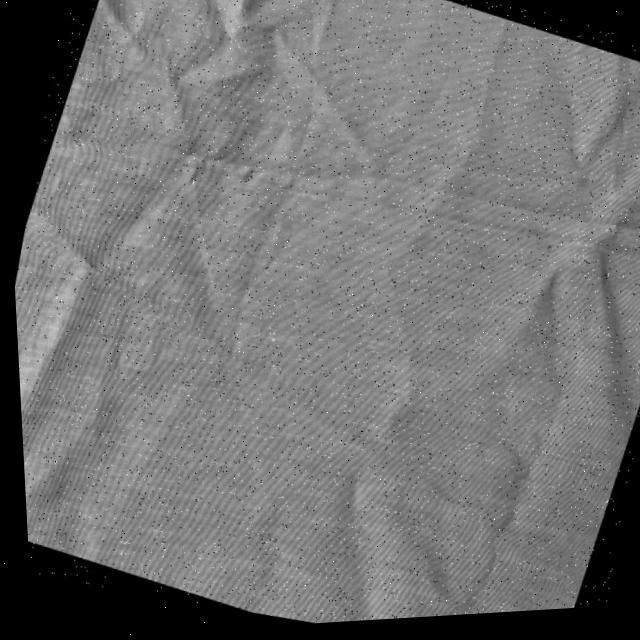broken_yarn: (594, 252, 630, 400)
